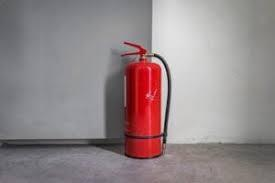floor-kept: (112, 36, 181, 162)
